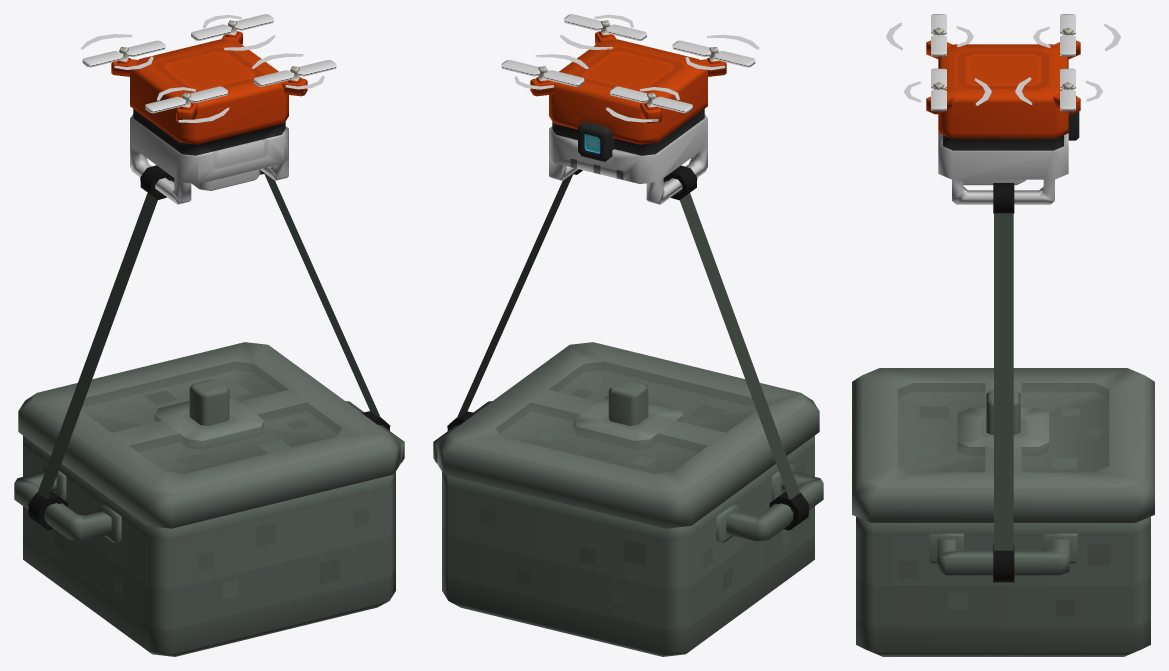
The model's file is drone_pot.fbx.
3 views of the same model, side by side, from view 1: azimuth 30°, elevation 25°; view 2: azimuth 150°, elevation 25°; view 3: azimuth 270°, elevation 25° (orthographic). The views are drawn at different scales.
Parts seen in each view (by area): view 1: idle_new:idle:idle:idle:BC_plane:BC_plane:BC_plane:model01, idle_new:idle:idle:idle:BC_plane:BC_plane:BC_plane:model01 1, idle_new:model, idle_new:line, idle_new:propera1, idle_new:propera3, idle_new:propera2, idle_new:propera4; view 2: idle_new:idle:idle:idle:BC_plane:BC_plane:BC_plane:model01, idle_new:idle:idle:idle:BC_plane:BC_plane:BC_plane:model01 1, idle_new:model, idle_new:line, idle_new:propera4, idle_new:propera2, idle_new:propera1, idle_new:propera3; view 3: idle_new:idle:idle:idle:BC_plane:BC_plane:BC_plane:model01 1, idle_new:idle:idle:idle:BC_plane:BC_plane:BC_plane:model01, idle_new:model, idle_new:line, idle_new:propera4, idle_new:propera3, idle_new:propera2, idle_new:propera1.
Boxes of the visible parts, bbox=[...] form: idle_new:idle:idle:idle:BC_plane:BC_plane:BC_plane:model01: bbox=[14, 401, 404, 656]; idle_new:idle:idle:idle:BC_plane:BC_plane:BC_plane:model01 1: bbox=[18, 342, 400, 528]; idle_new:model: bbox=[111, 20, 307, 204]; idle_new:line: bbox=[28, 165, 390, 530]; idle_new:propera1: bbox=[81, 34, 165, 69]; idle_new:propera3: bbox=[252, 53, 336, 89]; idle_new:propera2: bbox=[145, 86, 229, 122]; idle_new:propera4: bbox=[191, 14, 275, 50]; idle_new:idle:idle:idle:BC_plane:BC_plane:BC_plane:model01: bbox=[433, 401, 823, 656]; idle_new:idle:idle:idle:BC_plane:BC_plane:BC_plane:model01 1: bbox=[437, 342, 819, 528]; idle_new:model: bbox=[530, 20, 726, 204]; idle_new:line: bbox=[447, 165, 809, 530]; idle_new:propera4: bbox=[501, 54, 588, 89]; idle_new:propera2: bbox=[672, 34, 759, 70]; idle_new:propera1: bbox=[606, 86, 692, 122]; idle_new:propera3: bbox=[560, 14, 646, 49]; idle_new:idle:idle:idle:BC_plane:BC_plane:BC_plane:model01 1: bbox=[852, 368, 1154, 522]; idle_new:idle:idle:idle:BC_plane:BC_plane:BC_plane:model01: bbox=[856, 516, 1150, 656]; idle_new:model: bbox=[926, 27, 1080, 204]; idle_new:line: bbox=[993, 183, 1014, 582]; idle_new:propera4: bbox=[1015, 68, 1102, 111]; idle_new:propera3: bbox=[904, 68, 991, 111]; idle_new:propera2: bbox=[886, 14, 973, 56]; idle_new:propera1: bbox=[1033, 14, 1120, 56].
Bounding box in the file's own units: 5.67 × 8.1 × 4.1.
